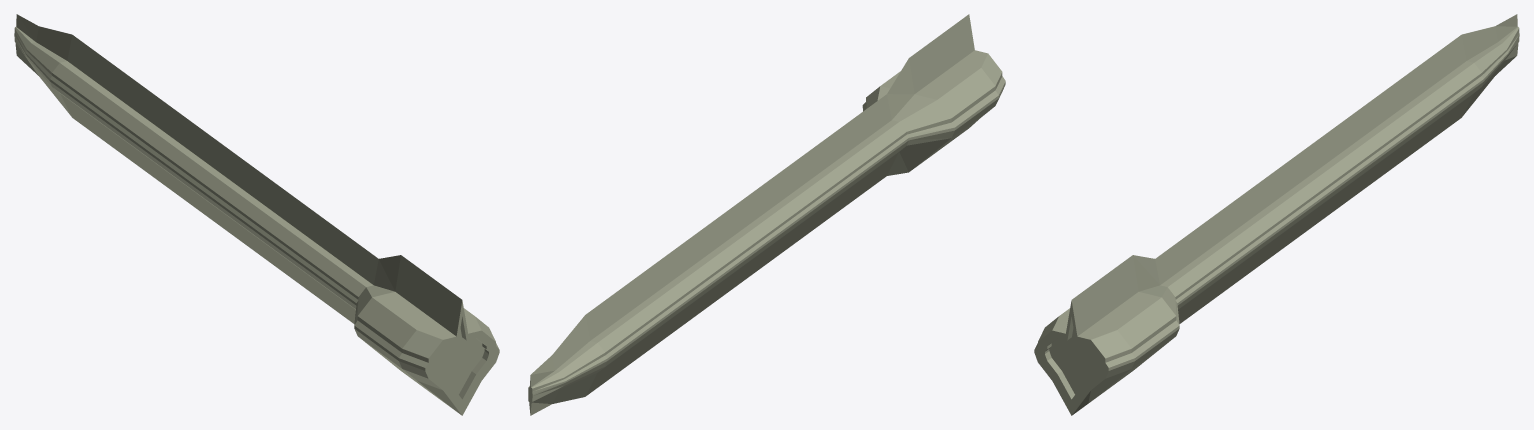
Rendered from freighter_krai.glb.
3 renders of one model, left to right at view 1: azimuth 30°, elevation 25°; view 2: azimuth 150°, elevation 25°; view 3: azimuth 330°, elevation 25°, orthographic.
Parts seen in each view (by area): view 1: hull; view 2: hull; view 3: hull.
Boxes of the visible parts, x1,y1,x2,y2 form: hull: (14, 14, 499, 415); hull: (528, 14, 1005, 415); hull: (1034, 14, 1519, 415).
Size of the model in its own units: 38.8 by 46 by 320.
